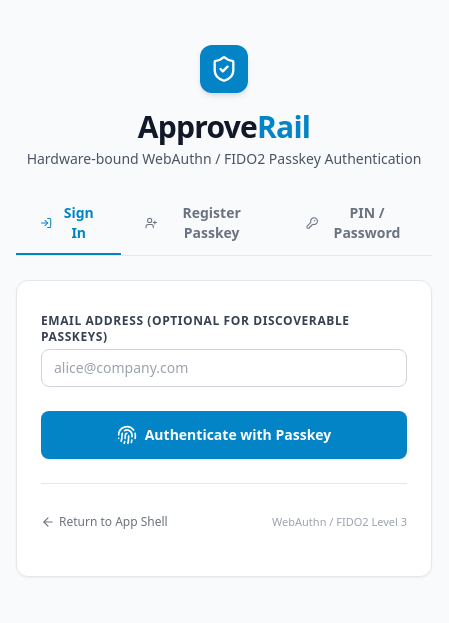
Scenario: AuthPage UI Component › switches to register mode when Register Passkey tab is clicked
Click the tab "Register Passkey" at (201, 224), box top-left (121, 193), bottom-right (282, 255)
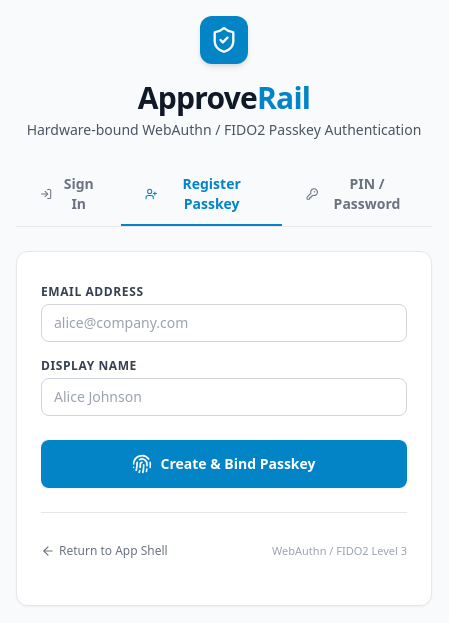
Now the field labelled "Email Address" is shown, box top-left (41, 304), bottom-right (407, 342)
Now the field labelled "Display Name" is shown, box top-left (41, 378), bottom-right (407, 416)
Now the button "Create & Bind Passkey" is shown, box top-left (41, 440), bottom-right (407, 488)
